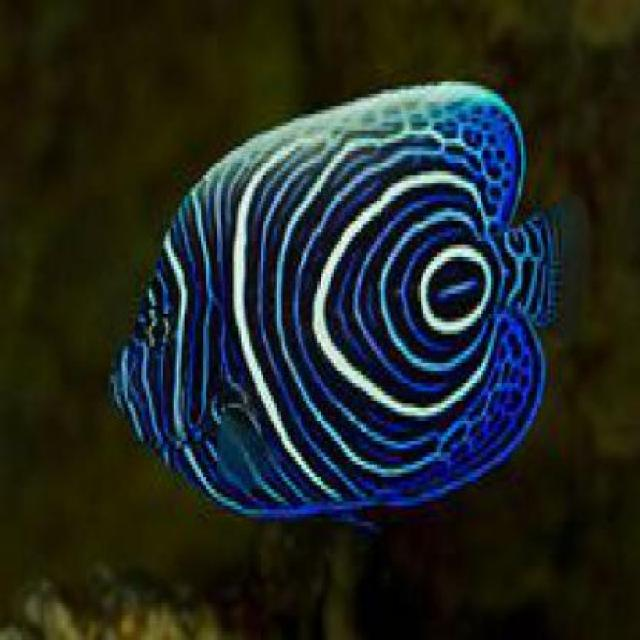AngelFish: (109, 84, 587, 529)
